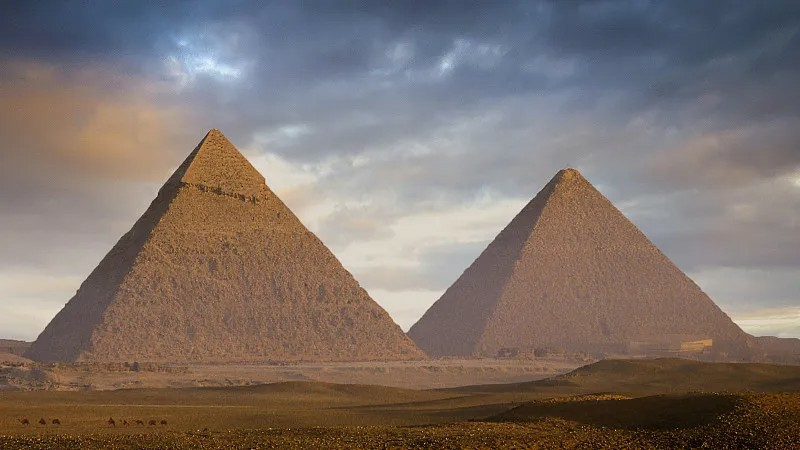Pyramid: (23, 128, 426, 367), (407, 168, 759, 357)
